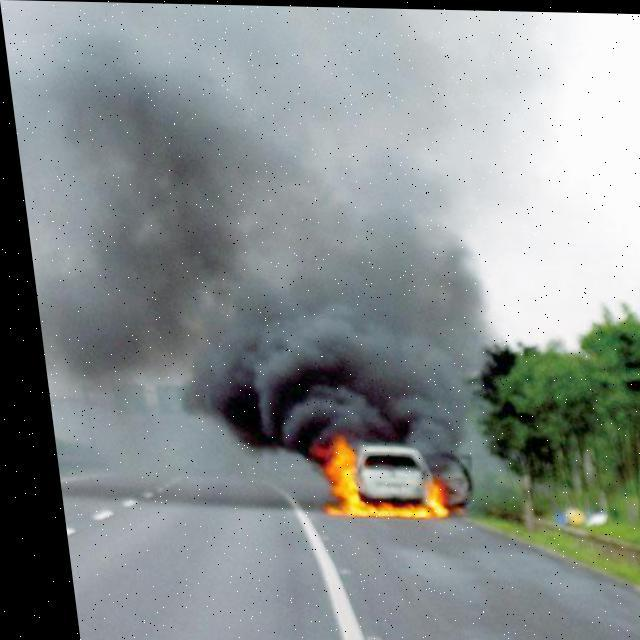Fire: (296, 420, 444, 520)
